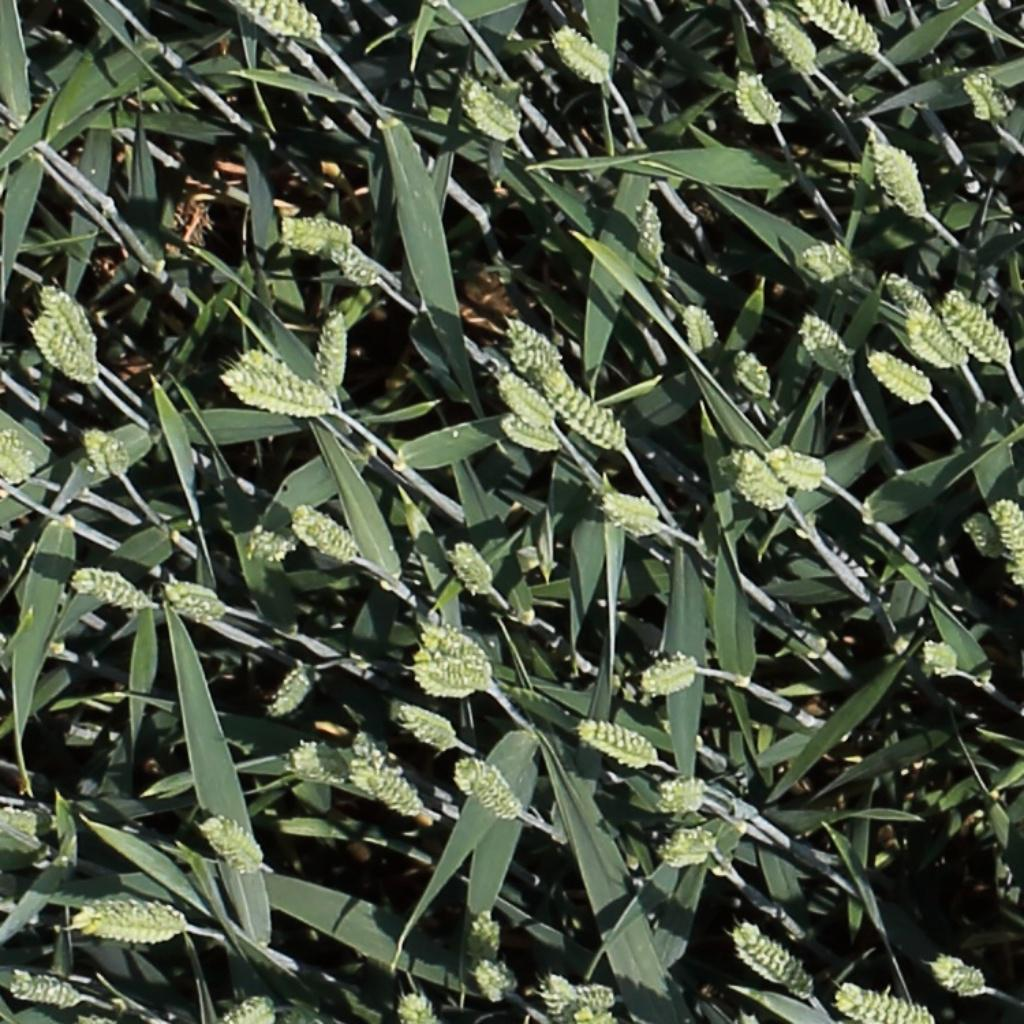0-0: (540, 372, 628, 449), (450, 743, 534, 821), (344, 741, 426, 820), (735, 928, 819, 1000), (70, 900, 197, 947), (888, 272, 961, 351), (869, 133, 932, 218), (942, 292, 1014, 365), (38, 281, 101, 361), (30, 315, 98, 385), (0, 794, 79, 852), (457, 73, 524, 141), (759, 2, 821, 75), (804, 0, 883, 57), (229, 338, 314, 389), (223, 375, 329, 413), (902, 308, 965, 369), (600, 490, 672, 542), (293, 506, 361, 561), (578, 722, 660, 767), (798, 315, 858, 376), (554, 25, 615, 84), (643, 768, 724, 812), (498, 370, 559, 428), (417, 621, 487, 671), (204, 817, 264, 875), (730, 449, 790, 506), (274, 215, 353, 258), (836, 987, 932, 1022), (989, 495, 1024, 591), (506, 315, 567, 370), (737, 65, 786, 131), (70, 572, 152, 611), (869, 349, 930, 401), (240, 1, 322, 39), (449, 539, 498, 602), (267, 660, 315, 723), (318, 305, 348, 398), (80, 423, 128, 481), (730, 344, 778, 402), (963, 66, 1006, 128), (572, 974, 626, 1023), (651, 827, 724, 863), (289, 746, 350, 787), (643, 651, 701, 693), (963, 509, 1007, 563), (161, 585, 223, 622), (330, 241, 380, 285), (6, 977, 81, 1006), (501, 415, 563, 450), (397, 707, 458, 742), (684, 294, 716, 360), (638, 192, 667, 264), (932, 958, 988, 995), (472, 903, 502, 970), (768, 451, 830, 483), (921, 637, 964, 683), (0, 427, 36, 481), (471, 957, 513, 1003), (415, 666, 480, 694), (539, 972, 577, 1019), (225, 996, 274, 1024), (804, 248, 856, 273), (398, 988, 434, 1022)
